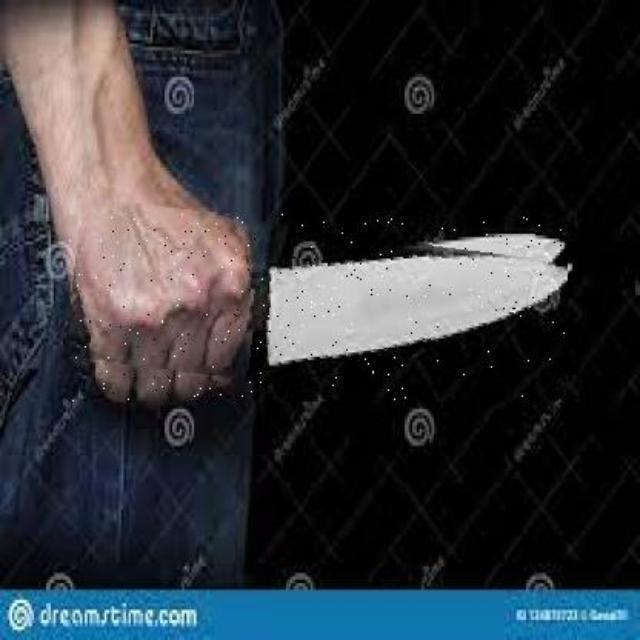Knife: (68, 212, 568, 402)
